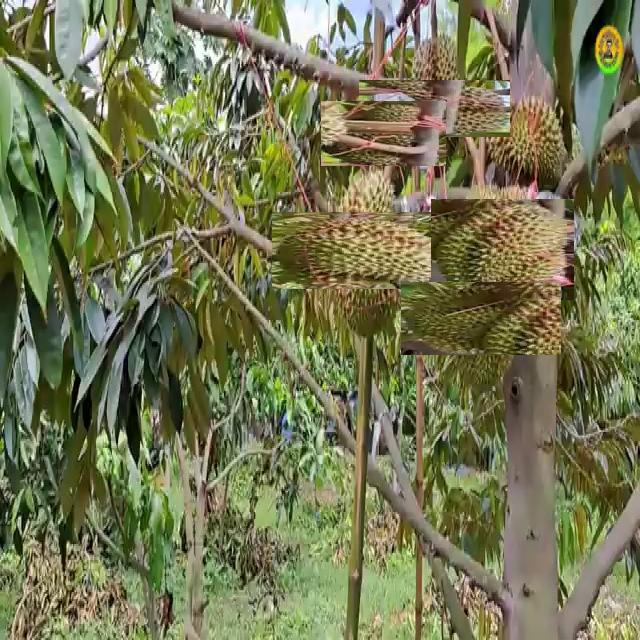durian: (298, 185, 429, 315), (441, 188, 563, 311), (422, 260, 539, 376), (382, 56, 486, 161), (480, 92, 576, 198), (335, 86, 431, 181)
